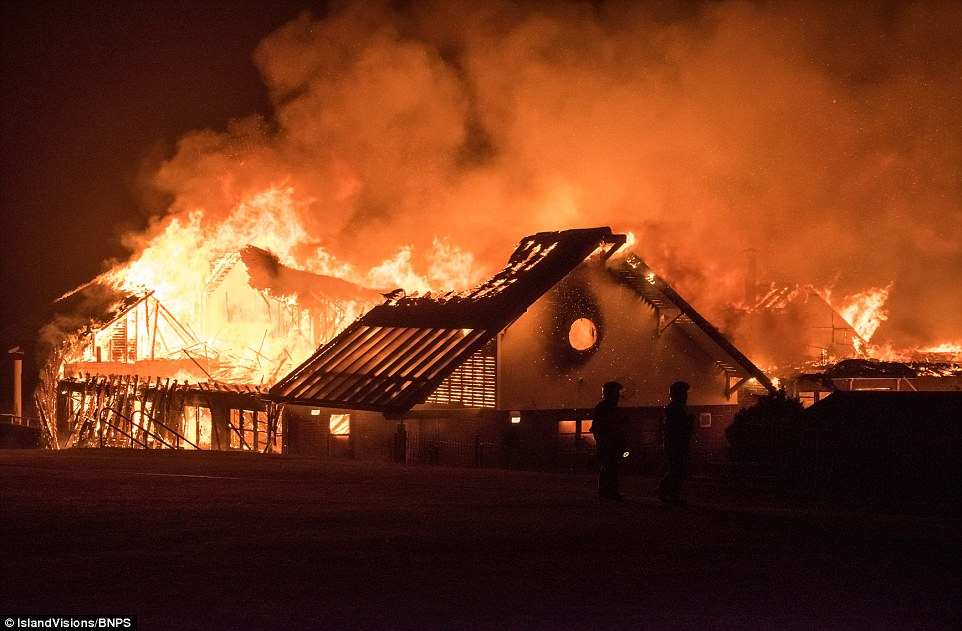Fire: (461, 156, 645, 229), (54, 385, 266, 445), (117, 306, 295, 377), (838, 272, 915, 361), (122, 223, 216, 295), (367, 244, 477, 297), (230, 192, 316, 250)
